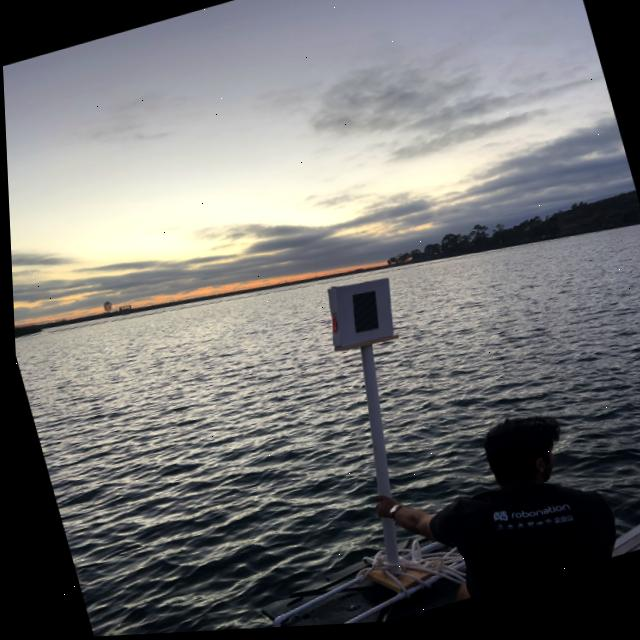led: (330, 281, 394, 355)
